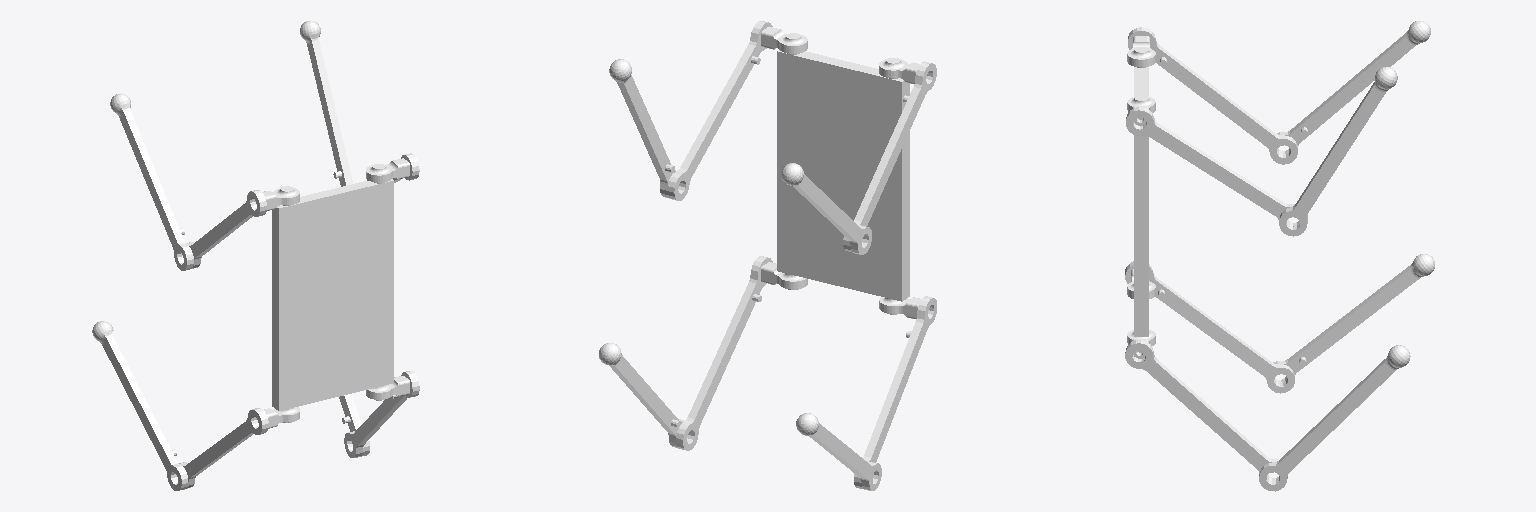
URDF robot description (dog_n1):
<?xml version="1.0" encoding="utf-8"?>
<!-- This URDF was automatically created by SolidWorks to URDF Exporter! Originally created by [author] ([email redacted]) 
     Commit Version: 1.5.1-0-g916b5db  Build Version: 1.5.7152.31018
     For more information, please see http://wiki.ros.org/sw_urdf_exporter -->
<robot
  name="dog_n1">
  <link
    name="base_link">
    <inertial>
      <origin
        xyz="0.026962 0.066596 0.16937"
        rpy="0 0 0" />
      <mass
        value="0.16894" />
      <inertia
        ixx="0.00040418"
        ixy="8.9282E-19"
        ixz="4.9115E-19"
        iyy="0.00014291"
        iyz="-1.841E-21"
        izz="0.00054429" />
    </inertial>
    <visual>
      <origin
        xyz="0 0 0"
        rpy="0 0 0" />
      <geometry>
        <mesh
          filename="package://dog_n1/meshes/base_link.STL" />
      </geometry>
      <material
        name="">
        <color
          rgba="1 1 1 1" />
      </material>
    </visual>
    <collision>
      <origin
        xyz="0 0 0"
        rpy="0 0 0" />
      <geometry>
        <mesh
          filename="package://dog_n1/meshes/base_link.STL" />
      </geometry>
    </collision>
  </link>
  <link
    name="lab_FL">
    <inertial>
      <origin
        xyz="-0.006915 4.6474E-12 -0.006"
        rpy="0 0 0" />
      <mass
        value="0.0038829" />
      <inertia
        ixx="1.0465E-07"
        ixy="1.8288E-16"
        ixz="2.7671E-15"
        iyy="3.6456E-07"
        iyz="-2.6021E-13"
        izz="4.0502E-07" />
    </inertial>
    <visual>
      <origin
        xyz="0 0 0"
        rpy="0 0 0" />
      <geometry>
        <mesh
          filename="package://dog_n1/meshes/lab_FL.STL" />
      </geometry>
      <material
        name="">
        <color
          rgba="1 1 1 1" />
      </material>
    </visual>
    <collision>
      <origin
        xyz="0 0 0"
        rpy="0 0 0" />
      <geometry>
        <mesh
          filename="package://dog_n1/meshes/lab_FL.STL" />
      </geometry>
    </collision>
  </link>
  <joint
    name="jab_FL"
    type="continuous">
    <origin
      xyz="-0.013038 -0.16937 0.1506"
      rpy="3.1416 0 -0.0013907" />
    <parent
      link="base_link" />
    <child
      link="lab_FL" />
    <axis
      xyz="0 0 1" />
    <limit
      lower="1.57"
      upper="-1.57"
      effort="3"
      velocity="3.14" />
  </joint>
  <link
    name="lhip_FL">
    <inertial>
      <origin
        xyz="0.0645400106619605 -0.00812149401689216 9.71445146547012E-17"
        rpy="0 0 0" />
      <mass
        value="0.00960427623809623" />
      <inertia
        ixx="1.76741163234082E-07"
        ixy="2.40498792679781E-08"
        ixz="-1.72119741860034E-20"
        iyy="1.92743728772456E-05"
        iyz="-1.64195351591776E-22"
        izz="1.91609562437376E-05" />
    </inertial>
    <visual>
      <origin
        xyz="0 0 0"
        rpy="0 0 0" />
      <geometry>
        <mesh
          filename="package://dog_n1/meshes/lhip_FL.STL" />
      </geometry>
      <material
        name="">
        <color
          rgba="1 1 1 1" />
      </material>
    </visual>
    <collision>
      <origin
        xyz="0 0 0"
        rpy="0 0 0" />
      <geometry>
        <mesh
          filename="package://dog_n1/meshes/lhip_FL.STL" />
      </geometry>
    </collision>
  </link>
  <joint
    name="jhip_FL"
    type="continuous">
    <origin
      xyz="-0.017822 0 -0.006"
      rpy="0 -0.69777 -1.5708" />
    <parent
      link="lab_FL" />
    <child
      link="lhip_FL" />
    <axis
      xyz="0 1 0" />
    <limit
      lower="-1.57"
      upper="1.57"
      effort="3"
      velocity="3.14" />
  </joint>
  <link
    name="lknee_FL">
    <inertial>
      <origin
        xyz="0.069957 0.0081181 -5.5519E-11"
        rpy="0 0 0" />
      <mass
        value="0.010478" />
      <inertia
        ixx="1.8479E-07"
        ixy="-2.6975E-08"
        ixz="1.9435E-14"
        iyy="2.2538E-05"
        iyz="-5.0406E-14"
        izz="2.2465E-05" />
    </inertial>
    <visual>
      <origin
        xyz="0 0 0"
        rpy="0 0 0" />
      <geometry>
        <mesh
          filename="package://dog_n1/meshes/lknee_FL.STL" />
      </geometry>
      <material
        name="">
        <color
          rgba="1 1 1 1" />
      </material>
    </visual>
    <collision>
      <origin
        xyz="0 0 0"
        rpy="0 0 0" />
      <geometry>
        <mesh
          filename="package://dog_n1/meshes/lknee_FL.STL" />
      </geometry>
    </collision>
  </link>
  <joint
    name="jknee_FL"
    type="continuous">
    <origin
      xyz="0.13 -0.0060081 0"
      rpy="3.1416 1.4475 0" />
    <parent
      link="lhip_FL" />
    <child
      link="lknee_FL" />
    <axis
      xyz="0 1 0" />
    <limit
      lower="-1.57"
      upper="1.57"
      effort="3"
      velocity="3.14" />
  </joint>
  <link
    name="lab_BL">
    <inertial>
      <origin
        xyz="-0.00691499555315518 -2.30354346708594E-10 0.00600000090144069"
        rpy="0 0 0" />
      <mass
        value="0.00388288477743161" />
      <inertia
        ixx="1.04650938701616E-07"
        ixy="-9.12605335496674E-15"
        ixz="2.96149096780781E-14"
        iyy="3.6455777692067E-07"
        iyz="-2.59902323116476E-13"
        izz="4.05017077798676E-07" />
    </inertial>
    <visual>
      <origin
        xyz="0 0 0"
        rpy="0 0 0" />
      <geometry>
        <mesh
          filename="package://dog_n1/meshes/lab_BL.STL" />
      </geometry>
      <material
        name="">
        <color
          rgba="1 1 1 1" />
      </material>
    </visual>
    <collision>
      <origin
        xyz="0 0 0"
        rpy="0 0 0" />
      <geometry>
        <mesh
          filename="package://dog_n1/meshes/lab_BL.STL" />
      </geometry>
    </collision>
  </link>
  <joint
    name="jab_BL"
    type="continuous">
    <origin
      xyz="-0.013038 -0.16937 -0.017404"
      rpy="3.1416 0 0.067776" />
    <parent
      link="base_link" />
    <child
      link="lab_BL" />
    <axis
      xyz="0 0 1" />
    <limit
      lower="-1.57"
      upper="1.57"
      effort="3"
      velocity="3.14" />
  </joint>
  <link
    name="lhip_BL">
    <inertial>
      <origin
        xyz="0.06454 -0.0078933 0"
        rpy="0 0 0" />
      <mass
        value="0.0096043" />
      <inertia
        ixx="1.7674E-07"
        ixy="2.405E-08"
        ixz="-3.0374E-21"
        iyy="1.9274E-05"
        iyz="0"
        izz="1.9161E-05" />
    </inertial>
    <visual>
      <origin
        xyz="0 0 0"
        rpy="0 0 0" />
      <geometry>
        <mesh
          filename="package://dog_n1/meshes/lhip_BL.STL" />
      </geometry>
      <material
        name="">
        <color
          rgba="1 1 1 1" />
      </material>
    </visual>
    <collision>
      <origin
        xyz="0 0 0"
        rpy="0 0 0" />
      <geometry>
        <mesh
          filename="package://dog_n1/meshes/lhip_BL.STL" />
      </geometry>
    </collision>
  </link>
  <joint
    name="jhip_BL"
    type="continuous">
    <origin
      xyz="-0.01805 0 0.006"
      rpy="0 -0.69834 -1.5708" />
    <parent
      link="lab_BL" />
    <child
      link="lhip_BL" />
    <axis
      xyz="0 1 0" />
    <limit
      lower="-1.57"
      upper="1.57"
      effort="3"
      velocity="3.14" />
  </joint>
  <link
    name="lknee_BL">
    <inertial>
      <origin
        xyz="0.069957 0.0078751 -1.1897E-10"
        rpy="0 0 0" />
      <mass
        value="0.010478" />
      <inertia
        ixx="1.8479E-07"
        ixy="-2.6975E-08"
        ixz="4.1784E-14"
        iyy="2.2538E-05"
        iyz="-5.0121E-14"
        izz="2.2465E-05" />
    </inertial>
    <visual>
      <origin
        xyz="0 0 0"
        rpy="0 0 0" />
      <geometry>
        <mesh
          filename="package://dog_n1/meshes/lknee_BL.STL" />
      </geometry>
      <material
        name="">
        <color
          rgba="1 1 1 1" />
      </material>
    </visual>
    <collision>
      <origin
        xyz="0 0 0"
        rpy="0 0 0" />
      <geometry>
        <mesh
          filename="package://dog_n1/meshes/lknee_BL.STL" />
      </geometry>
    </collision>
  </link>
  <joint
    name="jknee_BL"
    type="continuous">
    <origin
      xyz="0.13 -0.0060229 0"
      rpy="-3.1416 1.3813 0" />
    <parent
      link="lhip_BL" />
    <child
      link="lknee_BL" />
    <axis
      xyz="0 1 0" />
    <limit
      lower="-1.57"
      upper="1.57"
      effort="3"
      velocity="3.14" />
  </joint>
  <link
    name="lab_FR">
    <inertial>
      <origin
        xyz="-0.00691499559610827 1.40776335033621E-10 -0.00600000037431631"
        rpy="0 0 0" />
      <mass
        value="0.00388288479996345" />
      <inertia
        ixx="1.04650939338363E-07"
        ixy="5.56476888023163E-15"
        ixz="-1.26763488143062E-14"
        iyy="3.64557779026152E-07"
        iyz="-2.60134875017888E-13"
        izz="4.05017079537463E-07" />
    </inertial>
    <visual>
      <origin
        xyz="0 0 0"
        rpy="0 0 0" />
      <geometry>
        <mesh
          filename="package://dog_n1/meshes/lab_FR.STL" />
      </geometry>
      <material
        name="">
        <color
          rgba="1 1 1 1" />
      </material>
    </visual>
    <collision>
      <origin
        xyz="0 0 0"
        rpy="0 0 0" />
      <geometry>
        <mesh
          filename="package://dog_n1/meshes/lab_FR.STL" />
      </geometry>
    </collision>
  </link>
  <joint
    name="jab_FR"
    type="continuous">
    <origin
      xyz="0.066962 -0.16937 0.1506"
      rpy="-3.1416 0 3.0999" />
    <parent
      link="base_link" />
    <child
      link="lab_FR" />
    <axis
      xyz="0 0 1" />
    <limit
      lower="-1.57"
      upper="1.57"
      effort="3"
      velocity="3.14" />
  </joint>
  <link
    name="lhip_FR">
    <inertial>
      <origin
        xyz="0.06454 -0.013584 -5.5511E-17"
        rpy="0 0 0" />
      <mass
        value="0.0096043" />
      <inertia
        ixx="1.7674E-07"
        ixy="2.405E-08"
        ixz="2.1262E-20"
        iyy="1.9274E-05"
        iyz="-1.3235E-22"
        izz="1.9161E-05" />
    </inertial>
    <visual>
      <origin
        xyz="0 0 0"
        rpy="0 0 0" />
      <geometry>
        <mesh
          filename="package://dog_n1/meshes/lhip_FR.STL" />
      </geometry>
      <material
        name="">
        <color
          rgba="1 1 1 1" />
      </material>
    </visual>
    <collision>
      <origin
        xyz="0 0 0"
        rpy="0 0 0" />
      <geometry>
        <mesh
          filename="package://dog_n1/meshes/lhip_FR.STL" />
      </geometry>
    </collision>
  </link>
  <joint
    name="jhip_FR"
    type="continuous">
    <origin
      xyz="-0.01236 0 -0.006"
      rpy="3.1416 -0.59366 1.5708" />
    <parent
      link="lab_FR" />
    <child
      link="lhip_FR" />
    <axis
      xyz="0 1 0" />
    <limit
      lower="-1.57"
      upper="1.57"
      effort="3"
      velocity="3.14" />
  </joint>
  <link
    name="lknee_FR">
    <inertial>
      <origin
        xyz="0.069957 0.011754 -4.5702E-10"
        rpy="0 0 0" />
      <mass
        value="0.010478" />
      <inertia
        ixx="1.8479E-07"
        ixy="-2.6975E-08"
        ixz="1.602E-13"
        iyy="2.2538E-05"
        iyz="-4.9765E-14"
        izz="2.2465E-05" />
    </inertial>
    <visual>
      <origin
        xyz="0 0 0"
        rpy="0 0 0" />
      <geometry>
        <mesh
          filename="package://dog_n1/meshes/lknee_FR.STL" />
      </geometry>
      <material
        name="">
        <color
          rgba="1 1 1 1" />
      </material>
    </visual>
    <collision>
      <origin
        xyz="0 0 0"
        rpy="0 0 0" />
      <geometry>
        <mesh
          filename="package://dog_n1/meshes/lknee_FR.STL" />
      </geometry>
    </collision>
  </link>
  <joint
    name="jknee_FR"
    type="continuous">
    <origin
      xyz="0.13 -0.0078347 0"
      rpy="0 -1.5018 3.1416" />
    <parent
      link="lhip_FR" />
    <child
      link="lknee_FR" />
    <axis
      xyz="0 1 0" />
    <limit
      lower="-1.57"
      upper="1.57"
      effort="3"
      velocity="3.14" />
  </joint>
  <link
    name="lab_BR">
    <inertial>
      <origin
        xyz="-0.006915 -1.9548E-10 -0.006"
        rpy="0 0 0" />
      <mass
        value="0.0038829" />
      <inertia
        ixx="1.0465E-07"
        ixy="-7.7383E-15"
        ixz="2.5599E-14"
        iyy="3.6456E-07"
        iyz="-2.5999E-13"
        izz="4.0502E-07" />
    </inertial>
    <visual>
      <origin
        xyz="0 0 0"
        rpy="0 0 0" />
      <geometry>
        <mesh
          filename="package://dog_n1/meshes/lab_BR.STL" />
      </geometry>
      <material
        name="">
        <color
          rgba="1 1 1 1" />
      </material>
    </visual>
    <collision>
      <origin
        xyz="0 0 0"
        rpy="0 0 0" />
      <geometry>
        <mesh
          filename="package://dog_n1/meshes/lab_BR.STL" />
      </geometry>
    </collision>
  </link>
  <joint
    name="jab_BR"
    type="continuous">
    <origin
      xyz="0.066962 -0.16937 -0.017404"
      rpy="0 0 3.0839" />
    <parent
      link="base_link" />
    <child
      link="lab_BR" />
    <axis
      xyz="0 0 1" />
    <limit
      lower="-1.57"
      upper="1.57"
      effort="3"
      velocity="3.14" />
  </joint>
  <link
    name="lhip_BR">
    <inertial>
      <origin
        xyz="0.06454 -0.014996 2.7756E-17"
        rpy="0 0 0" />
      <mass
        value="0.0096043" />
      <inertia
        ixx="1.7674E-07"
        ixy="2.405E-08"
        ixz="1.1382E-21"
        iyy="1.9274E-05"
        iyz="1.5882E-22"
        izz="1.9161E-05" />
    </inertial>
    <visual>
      <origin
        xyz="0 0 0"
        rpy="0 0 0" />
      <geometry>
        <mesh
          filename="package://dog_n1/meshes/lhip_BR.STL" />
      </geometry>
      <material
        name="">
        <color
          rgba="1 1 1 1" />
      </material>
    </visual>
    <collision>
      <origin
        xyz="0 0 0"
        rpy="0 0 0" />
      <geometry>
        <mesh
          filename="package://dog_n1/meshes/lhip_BR.STL" />
      </geometry>
    </collision>
  </link>
  <joint
    name="jhip_BR"
    type="continuous">
    <origin
      xyz="-0.010948 0 -0.006"
      rpy="0 0.75873 -1.5708" />
    <parent
      link="lab_BR" />
    <child
      link="lhip_BR" />
    <axis
      xyz="0 1 0" />
    <limit
      lower="-1.57"
      upper="1.57"
      effort="3"
      velocity="3.14" />
  </joint>
  <link
    name="lknee_BR">
    <inertial>
      <origin
        xyz="0.069957 0.014571 -1.0779E-10"
        rpy="0 0 0" />
      <mass
        value="0.010478" />
      <inertia
        ixx="1.8479E-07"
        ixy="-2.6975E-08"
        ixz="3.7837E-14"
        iyy="2.2538E-05"
        iyz="-5.0215E-14"
        izz="2.2465E-05" />
    </inertial>
    <visual>
      <origin
        xyz="0 0 0"
        rpy="0 0 0" />
      <geometry>
        <mesh
          filename="package://dog_n1/meshes/lknee_BR.STL" />
      </geometry>
      <material
        name="">
        <color
          rgba="1 1 1 1" />
      </material>
    </visual>
    <collision>
      <origin
        xyz="0 0 0"
        rpy="0 0 0" />
      <geometry>
        <mesh
          filename="package://dog_n1/meshes/lknee_BR.STL" />
      </geometry>
    </collision>
  </link>
  <joint
    name="jknee_BR"
    type="continuous">
    <origin
      xyz="0.13 -0.0064302 0"
      rpy="0 -1.5581 -3.1416" />
    <parent
      link="lhip_BR" />
    <child
      link="lknee_BR" />
    <axis
      xyz="0 1 0" />
    <limit
      lower="-1.57"
      upper="1.57"
      effort="3"
      velocity="3.14" />
  </joint>
</robot>

--- Render facts (derived) ---
The picture shows the robot from 3 angles, left to right: view 1: azimuth 30°, elevation 25°; view 2: azimuth 150°, elevation 25°; view 3: azimuth 270°, elevation 25°; orthographic projection.
Model dog_n1 with 13 links and 12 joints (12 continuous), rooted at base_link, posed every joint at zero.
Visible links, largest first — view 1: base_link, lknee_BL, lknee_FL, lknee_FR, lhip_BL, lhip_FL, lhip_BR, lab_FR, lab_BR, lab_FL, lknee_BR; view 2: base_link, lhip_BR, lhip_FR, lhip_FL, lhip_BL, lknee_FR, lknee_FL, lknee_BR, lknee_BL, lab_FR, lab_BR, lab_FL (+1 smaller); view 3: base_link, lknee_BR, lhip_FL, lknee_FR, lhip_FR, lhip_BR, lknee_BL, lhip_BL, lknee_FL, lab_FL.
Link boxes in pixels (bbox=[...]): base_link: bbox=[272, 165, 393, 410]; lknee_BL: bbox=[92, 321, 187, 490]; lknee_FL: bbox=[110, 93, 193, 270]; lknee_FR: bbox=[300, 21, 352, 186]; lhip_BL: bbox=[179, 408, 268, 489]; lhip_FL: bbox=[186, 190, 266, 268]; lhip_BR: bbox=[344, 371, 419, 457]; lab_FR: bbox=[366, 158, 409, 183]; lab_BR: bbox=[366, 376, 409, 400]; lab_FL: bbox=[262, 186, 299, 210]; lknee_BR: bbox=[339, 394, 369, 456]; base_link: bbox=[777, 35, 909, 301]; lhip_BR: bbox=[676, 256, 772, 450]; lhip_FR: bbox=[667, 21, 772, 200]; lhip_FL: bbox=[843, 61, 936, 252]; lhip_BL: bbox=[854, 296, 936, 489]; lknee_FR: bbox=[609, 59, 675, 198]; lknee_FL: bbox=[781, 163, 871, 254]; lknee_BR: bbox=[599, 343, 683, 448]; lknee_BL: bbox=[796, 413, 881, 490]; lab_FR: bbox=[761, 26, 807, 54]; lab_BR: bbox=[761, 262, 807, 289]; lab_FL: bbox=[879, 58, 919, 83]; base_link: bbox=[1134, 48, 1148, 336]; lknee_BR: bbox=[1259, 345, 1410, 491]; lhip_FL: bbox=[1128, 27, 1297, 164]; lknee_FR: bbox=[1279, 67, 1397, 236]; lhip_FR: bbox=[1126, 107, 1307, 226]; lhip_BR: bbox=[1125, 340, 1279, 480]; lknee_BL: bbox=[1273, 254, 1434, 382]; lhip_BL: bbox=[1125, 261, 1294, 393]; lknee_FL: bbox=[1277, 21, 1430, 153]; lab_FL: bbox=[1127, 36, 1155, 67].
Bounding box of the posed robot: 0.1838 × 0.2175 × 0.3272 m (x, y, z).
Meshes: 13 distinct files referenced, 13 mesh visuals loaded (13 binary STL).